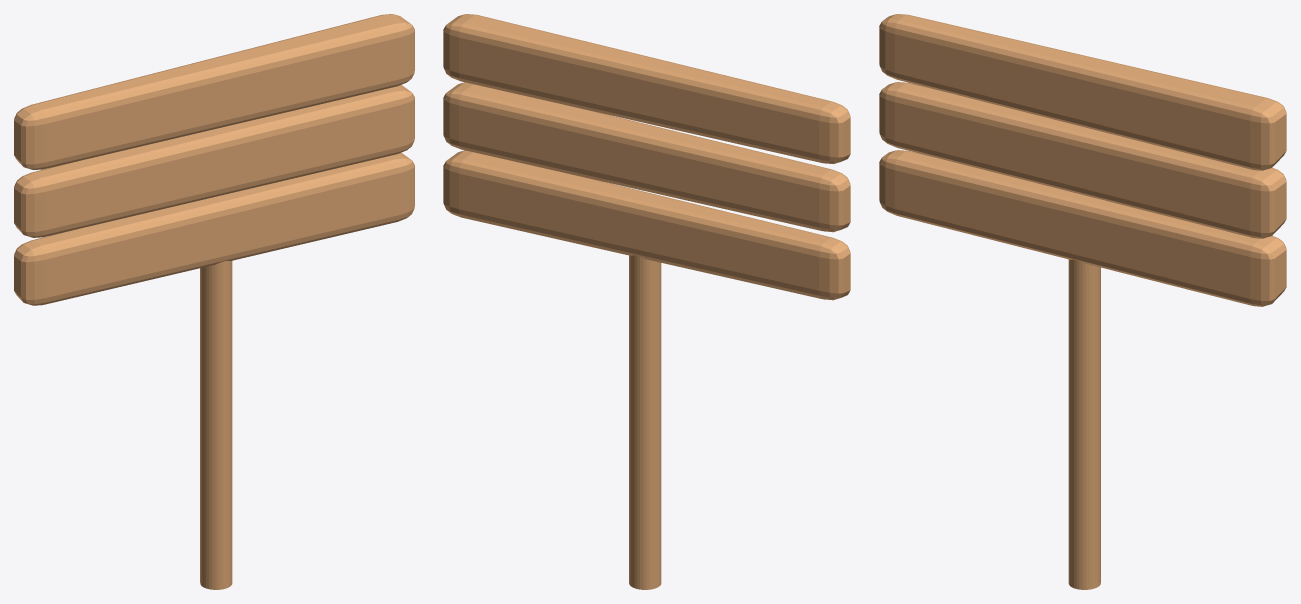
Rendered from ParkSign.fbx.
3 renders of one model, left to right at view 1: azimuth 30°, elevation 25°; view 2: azimuth 150°, elevation 25°; view 3: azimuth 330°, elevation 25°, orthographic.
Visible parts, largest first — view 1: Cube, Cylinder; view 2: Cube, Cylinder; view 3: Cube, Cylinder.
Part boxes in pixels (x1,y1,x2,y2): Cube: (14,14,414,305); Cylinder: (200,261,232,589); Cube: (443,14,850,300); Cylinder: (629,255,661,589); Cube: (879,14,1286,306); Cylinder: (1068,259,1100,589).
Size of the model in its own units: 369 by 466 by 33.47.
